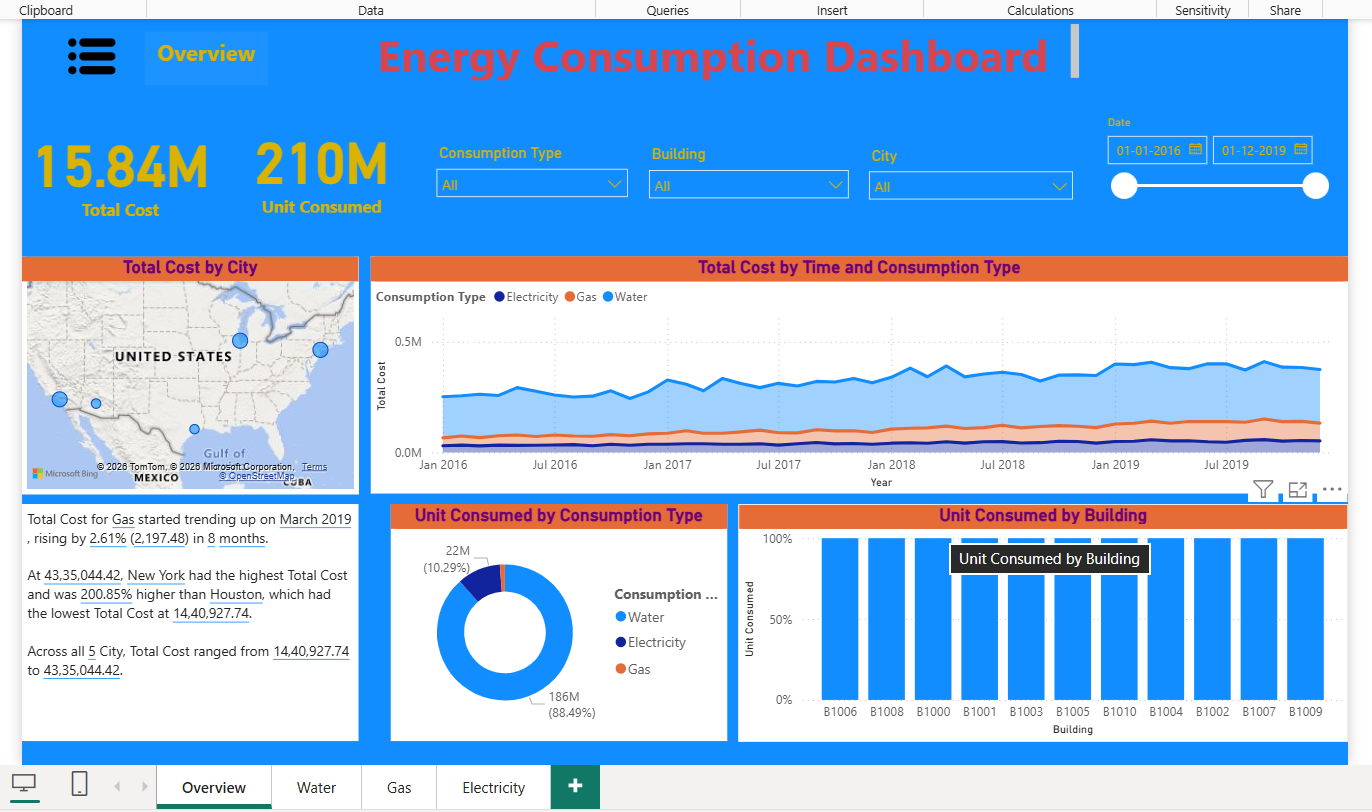

What the dashboard file says about the page in this screenshot:
{"tool":"powerbi","page":{"name":"Overview","canvas":[1280,720],"ordinal":0},"visuals":[{"type":"shape","box":[0,0,1280.3,130.7],"z":0},{"type":"image","box":[29.6,8.1,74.1,55.3],"z":1000},{"type":"textbox","box":[337.6,0,687.2,64.6],"z":2000},{"type":"textbox","box":[117.8,12.1,119.5,51.9],"z":3000},{"type":"card","fields":{"Values":["Energy Consumptions.Total Cost"]},"box":[0,84.9,190,122.6],"z":4000},{"type":"card","fields":{"Values":["Energy Consumptions.Unit Consumed"]},"box":[190,93.8,200,97.5],"z":5000},{"type":"slicer","fields":{"Values":["Energy Consumptions.Consumption Type"]},"box":[389.5,115.9,204.8,67.4],"z":6000},{"type":"slicer","fields":{"Values":["Energy Consumptions.Building"]},"box":[594.3,117.2,212.9,66],"z":7000},{"type":"slicer","fields":{"Values":["Building Master.City"]},"box":[807.2,118.6,217,66],"z":8000},{"type":"slicer","fields":{"Values":["Energy Consumptions.Date"]},"box":[1035,87.6,234.5,109.2],"z":9000},{"type":"map","fields":{"Category":["Building Master.City"],"Size":["Energy Consumptions.Total Cost"]},"box":[0,229.1,324.8,229.1],"z":10000},{"type":"stackedAreaChart","title":"Total Cost by Time and Consumption Type","fields":{"Category":["Energy Consumptions.Date.Variation.Date Hierarchy.Year","Energy Consumptions.Date.Variation.Date Hierarchy.Quarter","Energy Consumptions.Date.Variation.Date Hierarchy.Month"],"Y":["Energy Consumptions.Total Cost"],"Series":["Energy Consumptions.Consumption Type"]},"box":[336.9,229.1,943.4,229.1],"z":11000},{"type":"textbox","box":[0,468,325,229],"z":12000},{"type":"donutChart","fields":{"Y":["Energy Consumptions.Unit Consumed"],"Category":["Energy Consumptions.Consumption Type"]},"box":[355.8,467.6,324.8,229.1],"z":13000},{"type":"hundredPercentStackedColumnChart","fields":{"Y":["Energy Consumptions.Unit Consumed"],"Category":["Energy Consumptions.Building"]},"box":[691.3,467.6,588.9,229.1],"z":14000},{"type":"actionButton","box":[0,0,104.1,65.1],"z":16000},{"type":"actionButton","box":[0,0,103.3,65],"z":17000},{"type":"actionButton","box":[237.2,0,103.9,65.8],"z":18000}]}

Visuals, with their boxes on the page's 1280x720 design canvas (x1, y1, x2, y2). These are canvas units, not pixel positions in the 1372x812 screenshot, which may show the page scaled, cropped or inside an application window:
shape: (0, 0, 1280, 131)
image: (30, 8, 104, 63)
textbox: (338, 0, 1025, 65)
textbox: (118, 12, 237, 64)
card - Energy Consumptions.Total Cost: (0, 85, 190, 208)
card - Energy Consumptions.Unit Consumed: (190, 94, 390, 191)
slicer - Energy Consumptions.Consumption Type: (390, 116, 594, 183)
slicer - Energy Consumptions.Building: (594, 117, 807, 183)
slicer - Building Master.City: (807, 119, 1024, 185)
slicer - Energy Consumptions.Date: (1035, 88, 1270, 197)
map - Building Master.City x Energy Consumptions.Total Cost: (0, 229, 325, 458)
"Total Cost by Time and Consumption Type" stackedAreaChart: (337, 229, 1280, 458)
textbox: (0, 468, 325, 697)
donutChart - Energy Consumptions.Unit Consumed x Energy Consumptions.Consumption Type: (356, 468, 681, 697)
hundredPercentStackedColumnChart - Energy Consumptions.Unit Consumed x Energy Consumptions.Building: (691, 468, 1280, 697)
actionButton: (0, 0, 104, 65)
actionButton: (0, 0, 103, 65)
actionButton: (237, 0, 341, 66)
